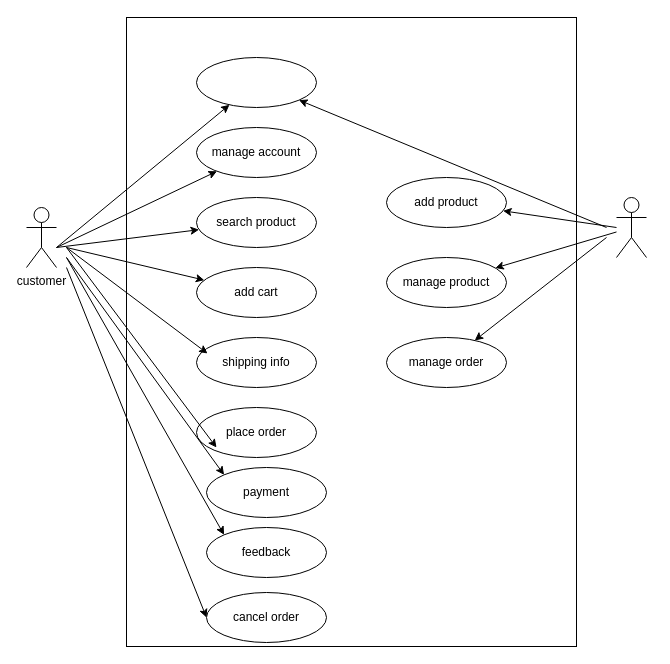
The diagram is 670 pixels wide and 664 high, and some of its shapes have lost their labels. The box of each missing label's shape, as (x1, y1, x2, y2) in pixels:
register: (196, 56, 316, 108)
supplier: (616, 196, 646, 258)
